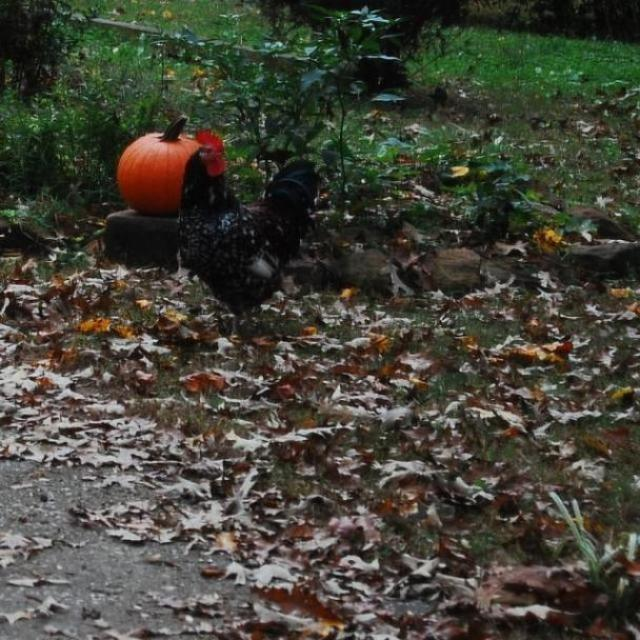Chicken: (192, 135, 325, 302)
